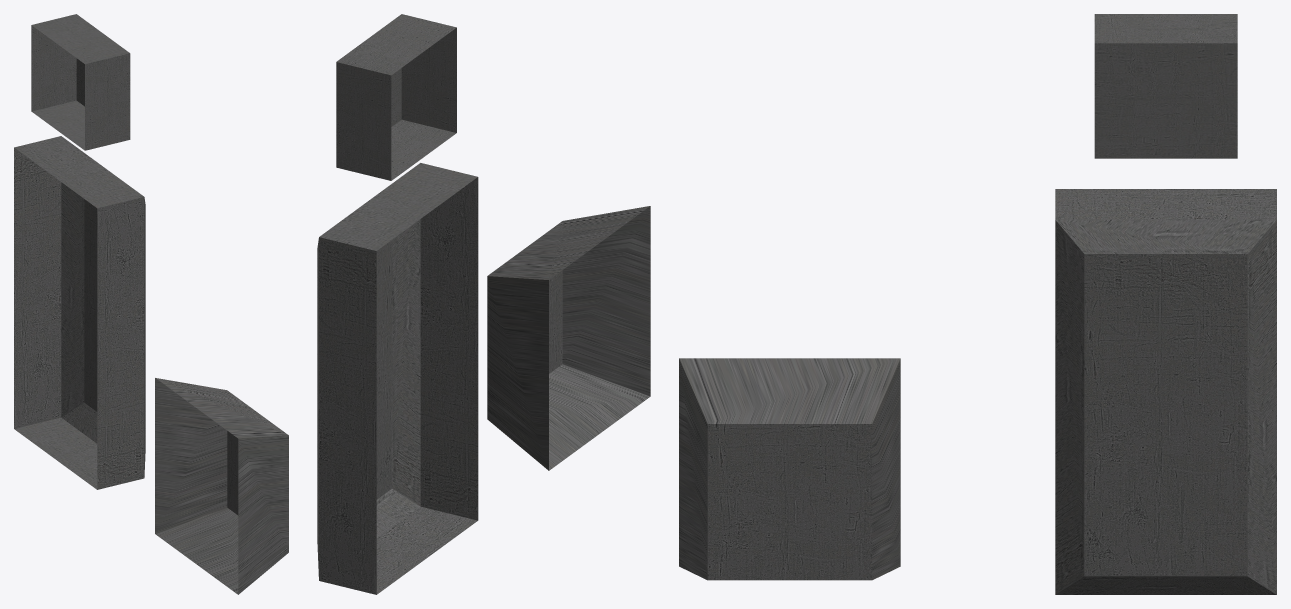
The model's file is p6_cic_mech_panel_c_white_lod3.glb.
3 renders of one model, left to right at view 1: azimuth 30°, elevation 25°; view 2: azimuth 150°, elevation 25°; view 3: azimuth 270°, elevation 25°, orthographic. The views are drawn at different scales.
Parts seen in each view (by area): view 1: surf0; view 2: surf0; view 3: surf0.
Part boxes in pixels (x1,y1,x2,y2): surf0: (14, 14, 288, 594); surf0: (317, 14, 650, 594); surf0: (679, 14, 1276, 594).
Bounding box in the file's own units: 10.57 × 68.46 × 66.92.
